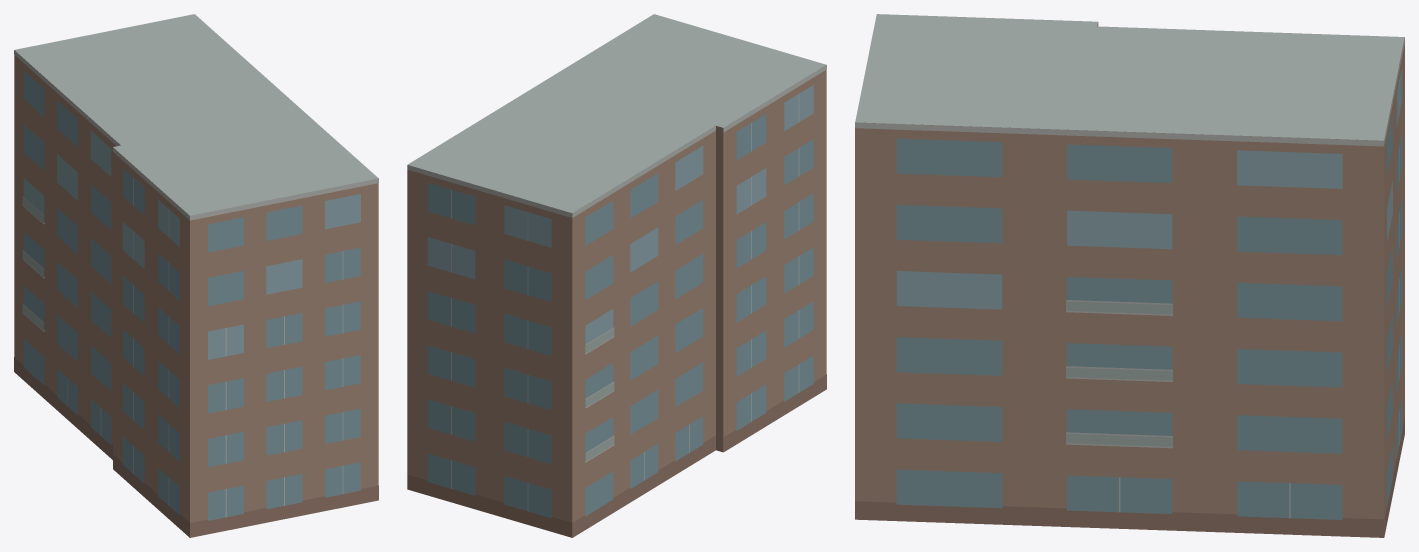
File: survey-upis-32551302.glb
The picture shows the model from 3 angles, left to right: view 1: azimuth 30°, elevation 25°; view 2: azimuth 150°, elevation 25°; view 3: azimuth 270°, elevation 25°; orthographic projection. The views are drawn at different scales.
Parts seen in each view (by area): view 1: survey-upis-32551302.tmp; view 2: survey-upis-32551302.tmp; view 3: survey-upis-32551302.tmp.
Boxes of the visible parts, x1,y1,x2,y2 form: survey-upis-32551302.tmp: [14, 14, 378, 537]; survey-upis-32551302.tmp: [407, 14, 826, 537]; survey-upis-32551302.tmp: [855, 14, 1404, 537].
Size of the model in its own units: 11.5 by 16.8 by 21.08.
